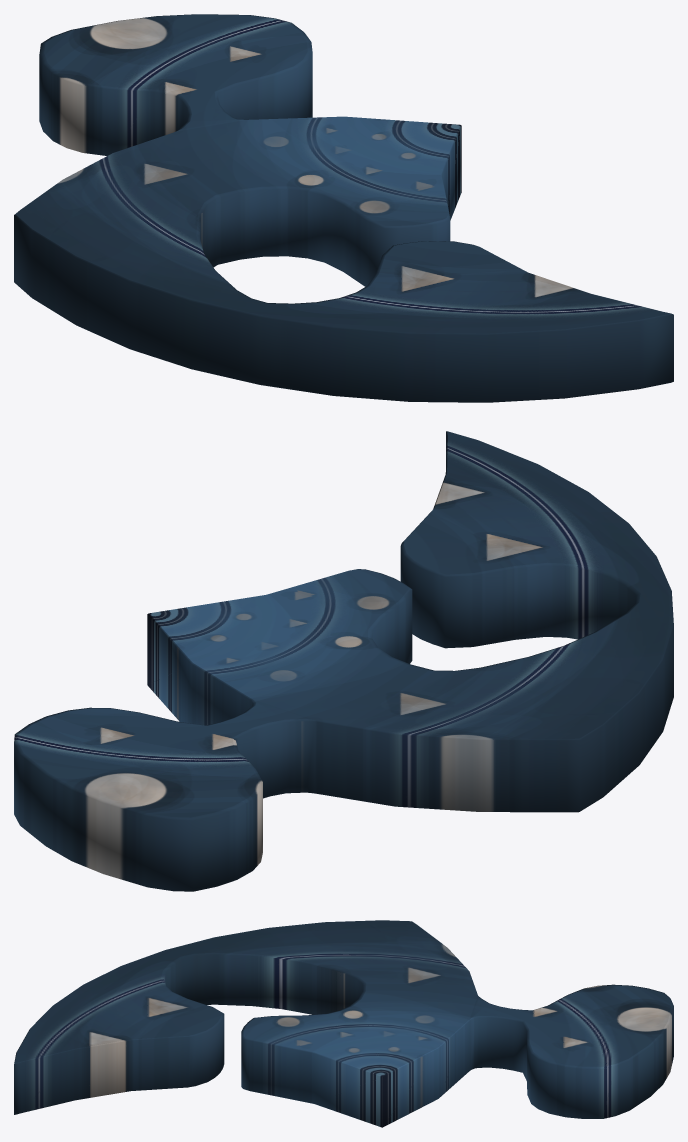
Rendered from Puzzle_pieces_2.FBX.
3 renders of one model, top to bottom at view 1: azimuth 30°, elevation 25°; view 2: azimuth 150°, elevation 25°; view 3: azimuth 270°, elevation 25°, orthographic. The views are drawn at different scales.
Visible parts, largest first — view 1: piece2; view 2: piece2; view 3: piece2.
Part boxes in pixels (x1=…): piece2: x1=14, y1=14, x2=673, y2=402; piece2: x1=14, y1=431, x2=673, y2=891; piece2: x1=14, y1=920, x2=673, y2=1127.
Size of the model in its own units: 4477 by 690 by 7967.
